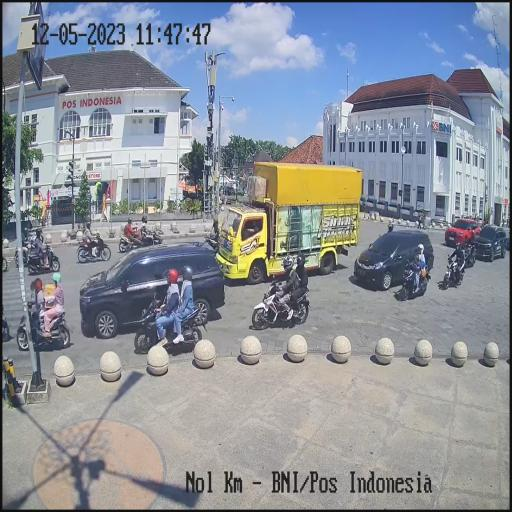mobil: (214, 159, 362, 273), (78, 248, 228, 331), (354, 229, 436, 289), (471, 216, 508, 263), (443, 215, 478, 245)
motor: (136, 293, 203, 355), (13, 297, 70, 355), (251, 277, 312, 329), (25, 244, 62, 276), (76, 231, 110, 264), (402, 258, 428, 298), (444, 254, 465, 292), (119, 226, 144, 254)
